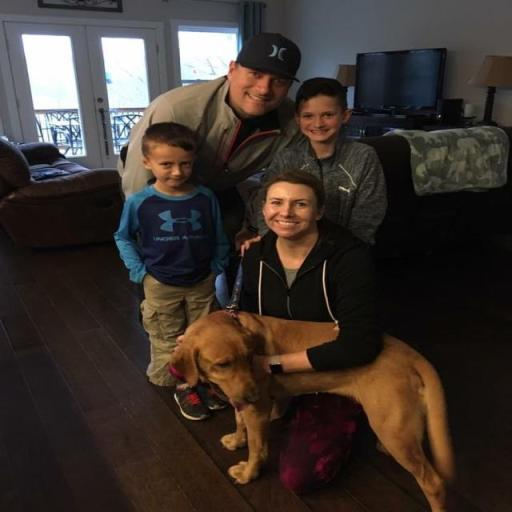Under Armour: (152, 206, 206, 236)
